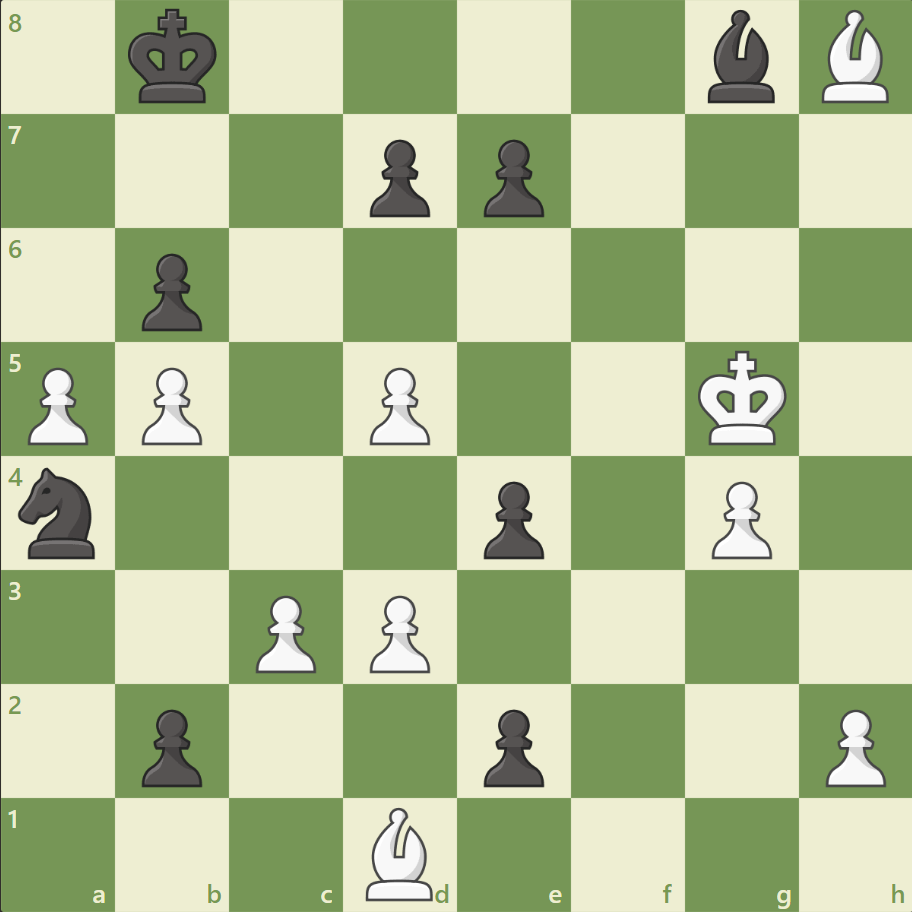B: (812, 6, 896, 109), (358, 801, 442, 904)
K: (692, 344, 792, 452)
P: (20, 359, 95, 450), (133, 359, 208, 450), (701, 473, 776, 564), (247, 586, 322, 677), (361, 359, 435, 450), (361, 586, 435, 677), (815, 700, 889, 791)
b: (698, 6, 782, 109)
k: (124, 4, 224, 112)
n: (11, 461, 108, 564)
p: (474, 132, 549, 223), (133, 246, 208, 337), (474, 473, 549, 564), (133, 700, 208, 791), (474, 700, 549, 791), (361, 132, 435, 223)
